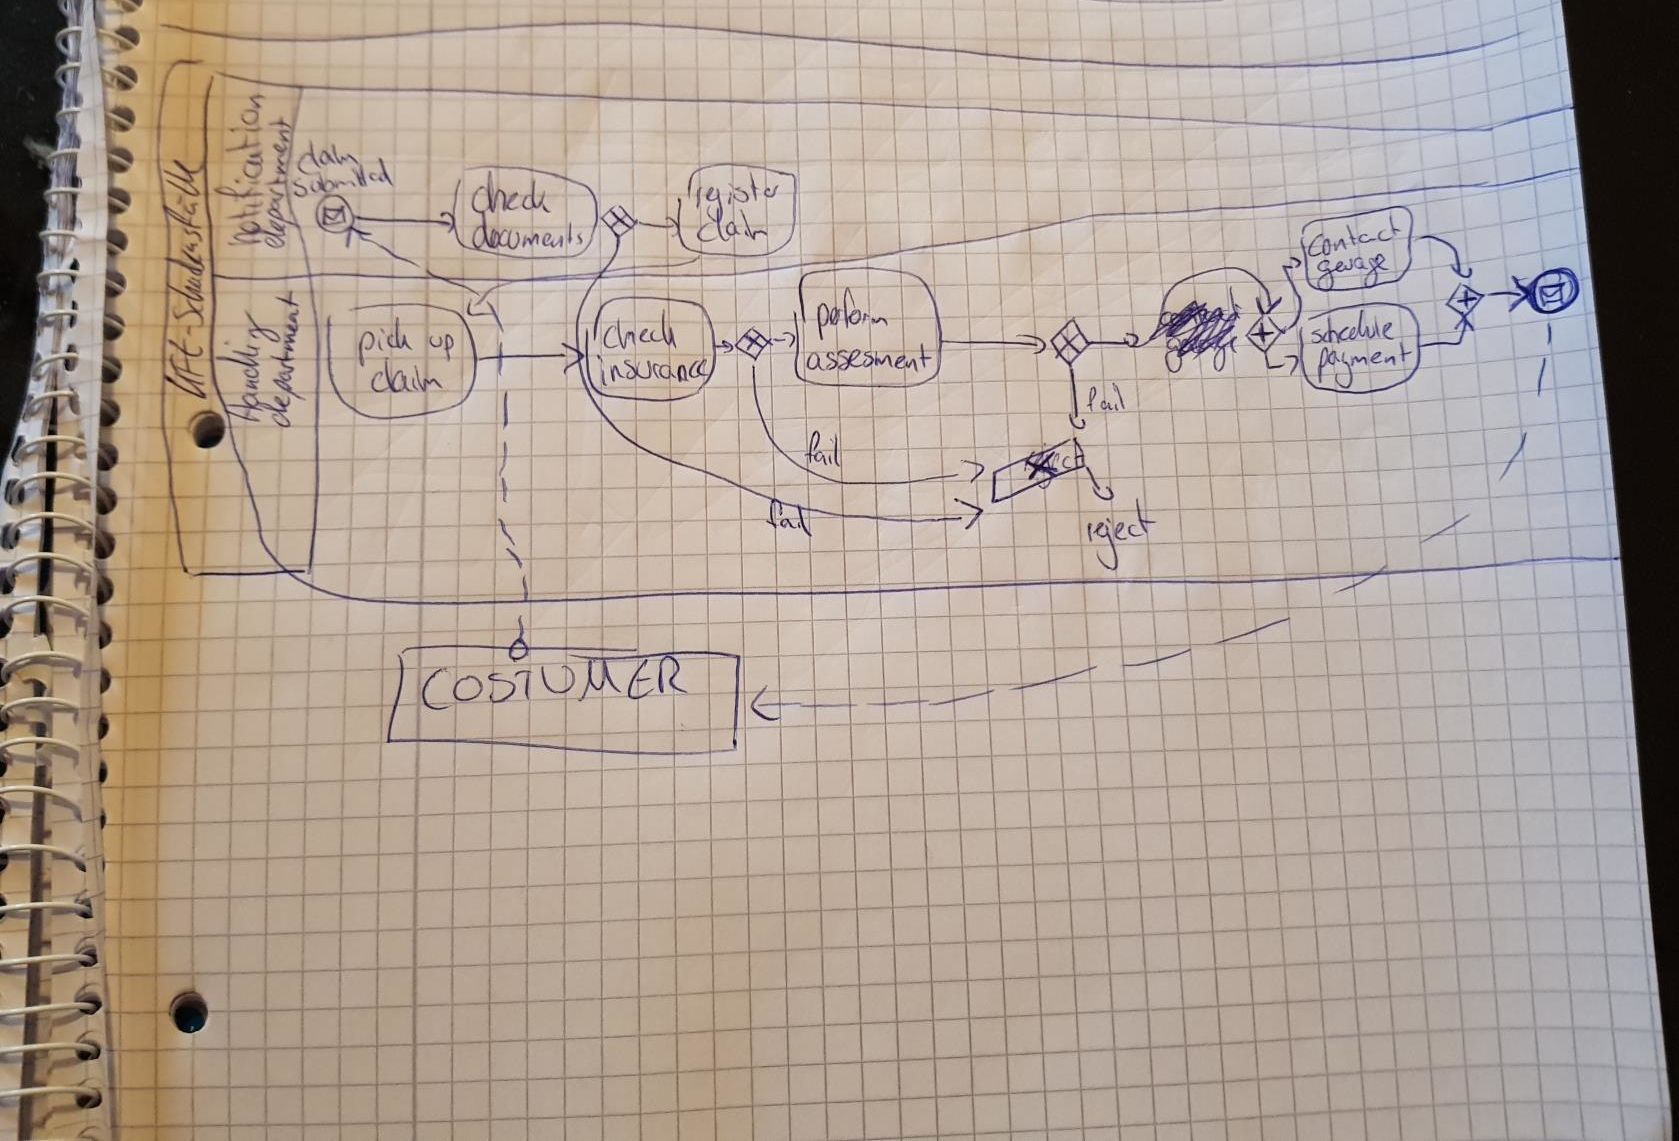COSTUMER: (412, 649, 698, 717)
Handling: (210, 304, 286, 427)
KFZ: (158, 331, 213, 406)
Schadensfälle: (157, 150, 213, 337)
assesment: (799, 337, 938, 377)
check: (465, 164, 559, 220), (597, 303, 684, 357)
claim: (364, 351, 451, 399), (690, 202, 774, 248), (292, 136, 365, 180)
contact: (1302, 208, 1408, 264)
department: (252, 284, 311, 433), (256, 112, 306, 255)
documents: (466, 206, 591, 255)
fail: (759, 493, 818, 542), (799, 425, 847, 472), (1082, 378, 1130, 418)
garage: (1312, 248, 1394, 295)
insurance: (589, 349, 714, 393)
notification: (207, 89, 269, 256)
payment: (1311, 335, 1417, 393)
perform: (810, 281, 894, 345)
pick: (353, 312, 418, 373)
register: (690, 168, 785, 229)
reject: (1081, 493, 1163, 579)
schedule: (1306, 304, 1402, 351)
submitted: (286, 152, 398, 204)
up: (424, 326, 462, 367)
